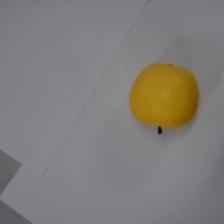yellow: (127, 59, 201, 135)
